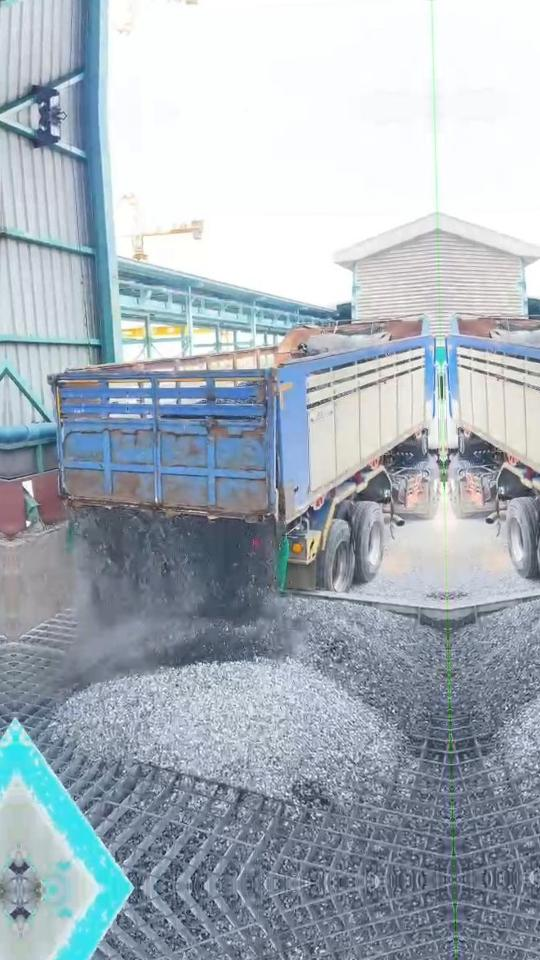gravel: (56, 599, 446, 804), (79, 506, 288, 689)
